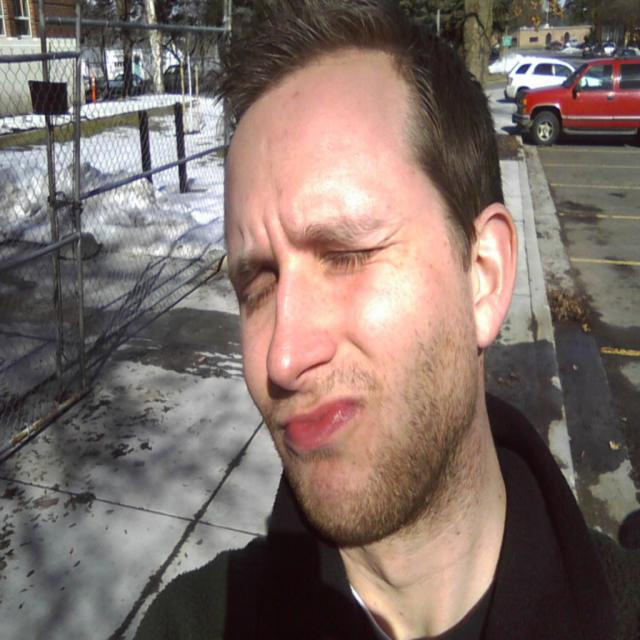other: (509, 57, 639, 148), (502, 56, 602, 101), (140, 59, 198, 93), (103, 74, 142, 97), (85, 73, 106, 101)
